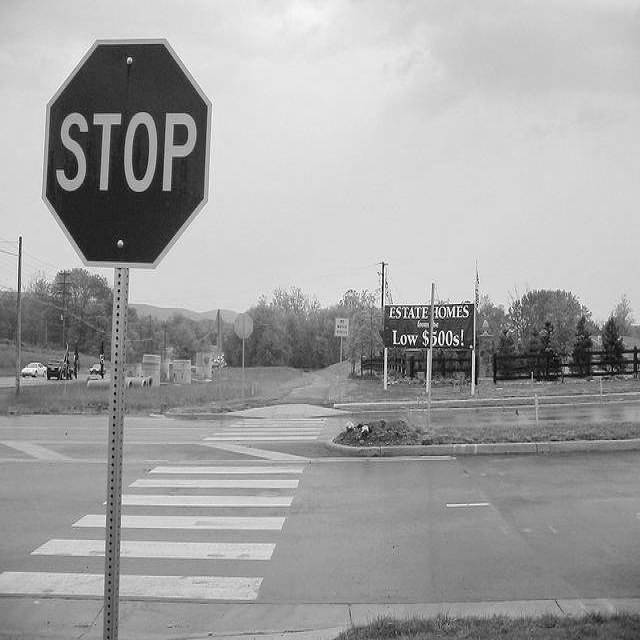vehicle: (48, 356, 74, 380), (21, 361, 45, 377), (89, 364, 101, 376), (191, 363, 197, 373), (218, 356, 222, 362)
